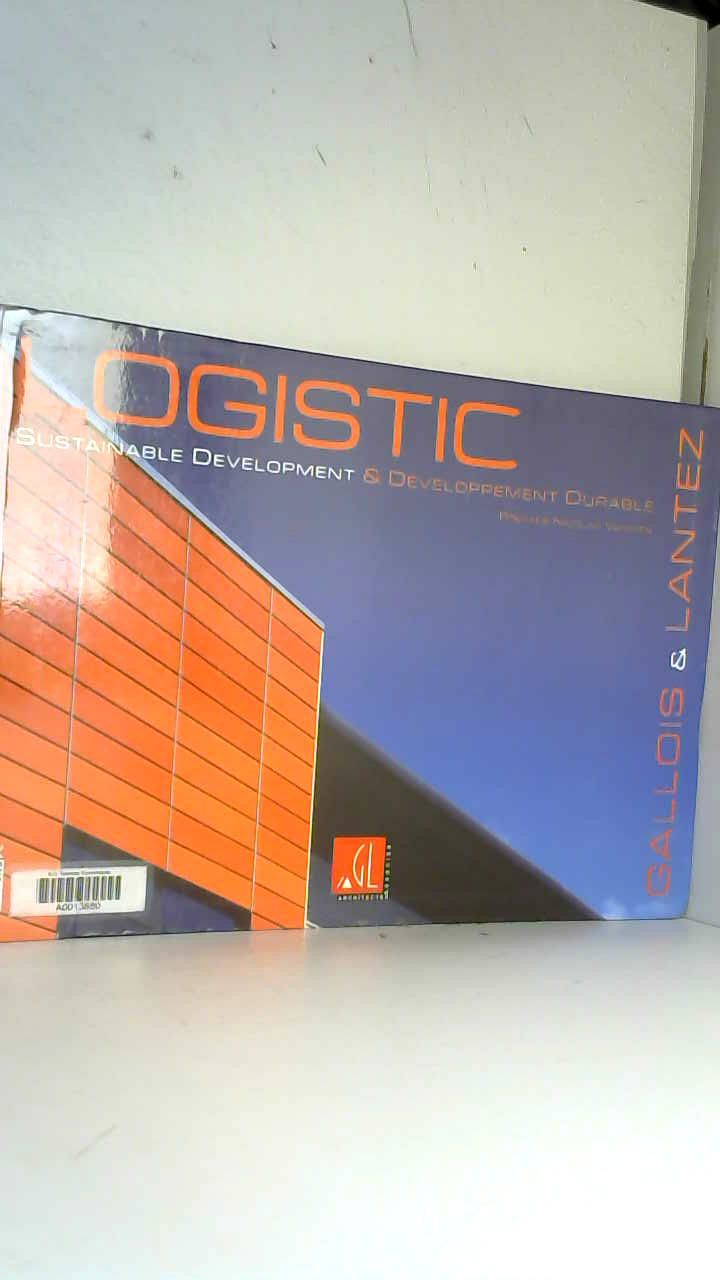book: (0, 299, 720, 966)
